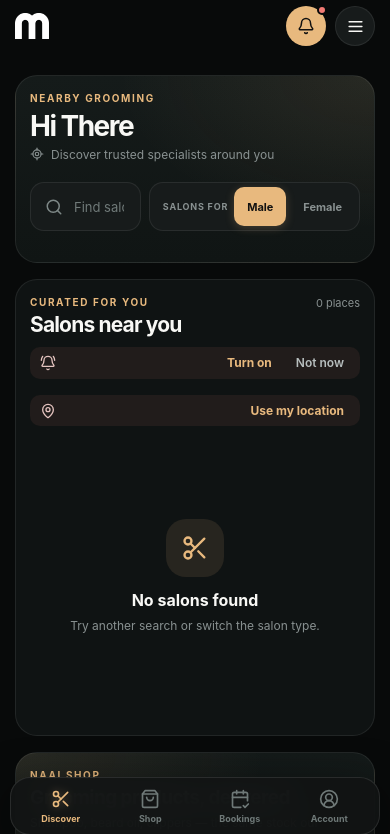
Test case: Bottom navigation labels › opens the Naai Shop from the customer tab bar
Click the button "Shop": coordinates (150, 806) top-left (106, 786), bottom-right (195, 827)
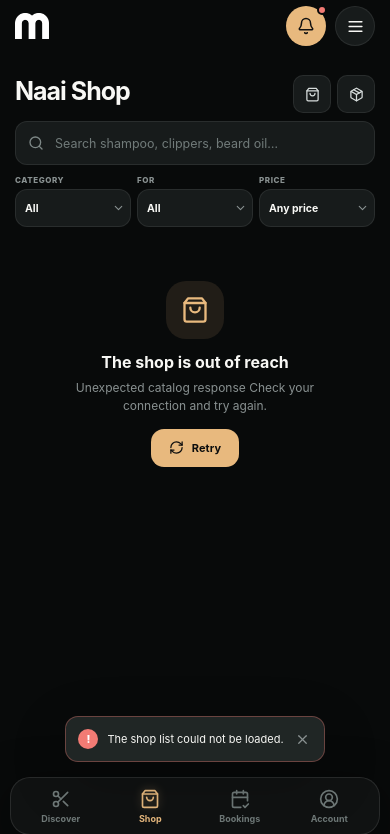
Check: the element with class "shop-screen" is shown
